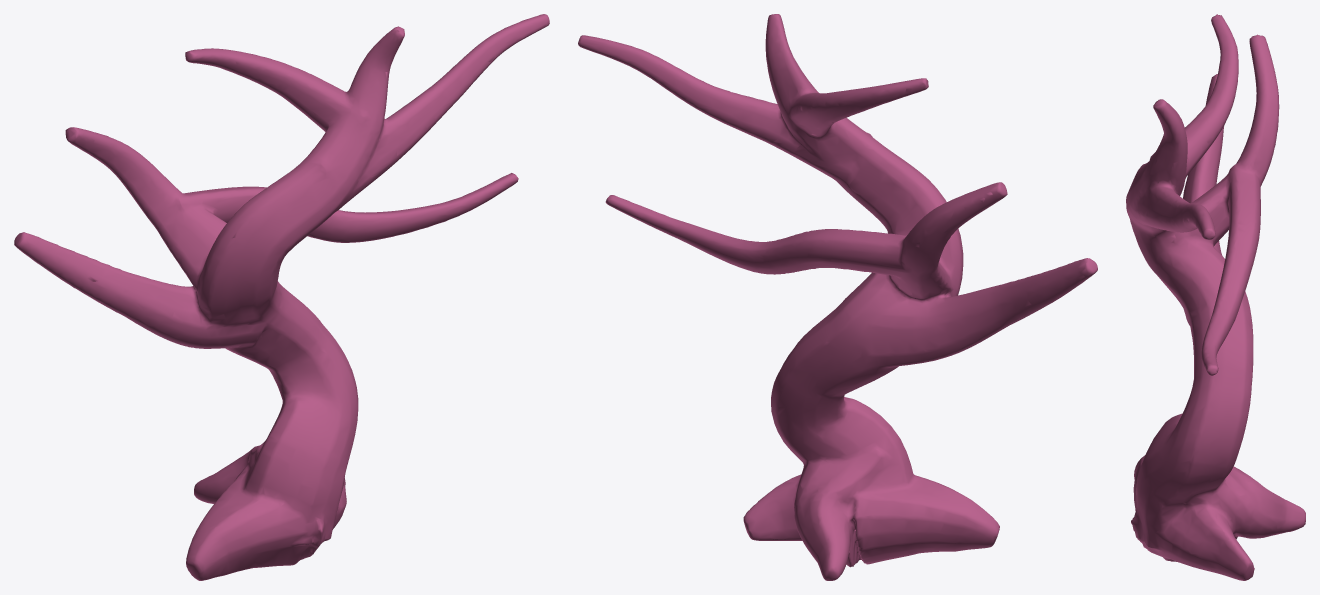
The model's file is graph-v01.glb.
3 renders of one model, left to right at view 1: azimuth 30°, elevation 25°; view 2: azimuth 150°, elevation 25°; view 3: azimuth 270°, elevation 25°, orthographic.
Visible parts, largest first — view 1: Continuous aged trunk and primary branches; view 2: Continuous aged trunk and primary branches; view 3: Continuous aged trunk and primary branches.
Boxes of the visible parts, left/top/right/bottom form: Continuous aged trunk and primary branches: left=14, top=14, right=549, bottom=580; Continuous aged trunk and primary branches: left=578, top=14, right=1097, bottom=580; Continuous aged trunk and primary branches: left=1126, top=14, right=1305, bottom=580.
Size of the model in its own units: 1.78 by 1.68 by 0.5322.
